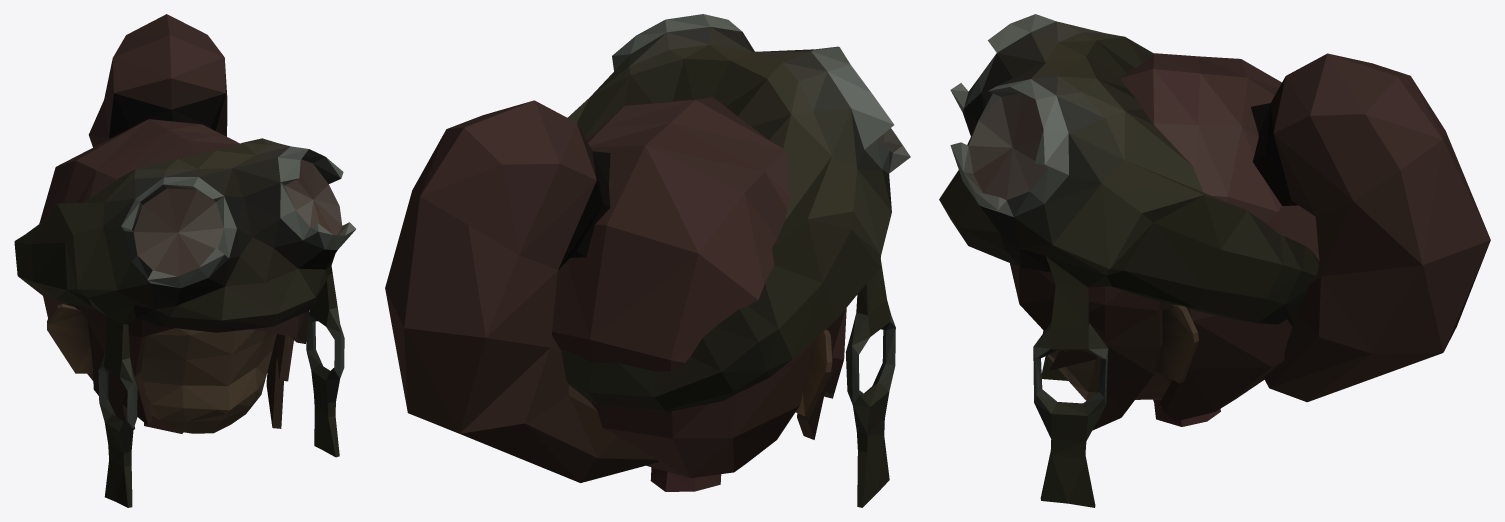
Rendered from helm_darkskin_ponytail_brown_goggles.fbx.
3 views of the same model, side by side, from view 1: azimuth 30°, elevation 25°; view 2: azimuth 150°, elevation 25°; view 3: azimuth 270°, elevation 25° (orthographic). The views are drawn at different scales.
Visible parts, largest first — view 1: helm_darkskin_ponytail_brown_goggles; view 2: helm_darkskin_ponytail_brown_goggles; view 3: helm_darkskin_ponytail_brown_goggles.
Part boxes in pixels (left/top/right/bottom): helm_darkskin_ponytail_brown_goggles: left=14, top=14, right=355, bottom=507; helm_darkskin_ponytail_brown_goggles: left=385, top=14, right=910, bottom=507; helm_darkskin_ponytail_brown_goggles: left=939, top=14, right=1490, bottom=507.
Size of the model in its own units: 1.25 by 1.58 by 1.86.
